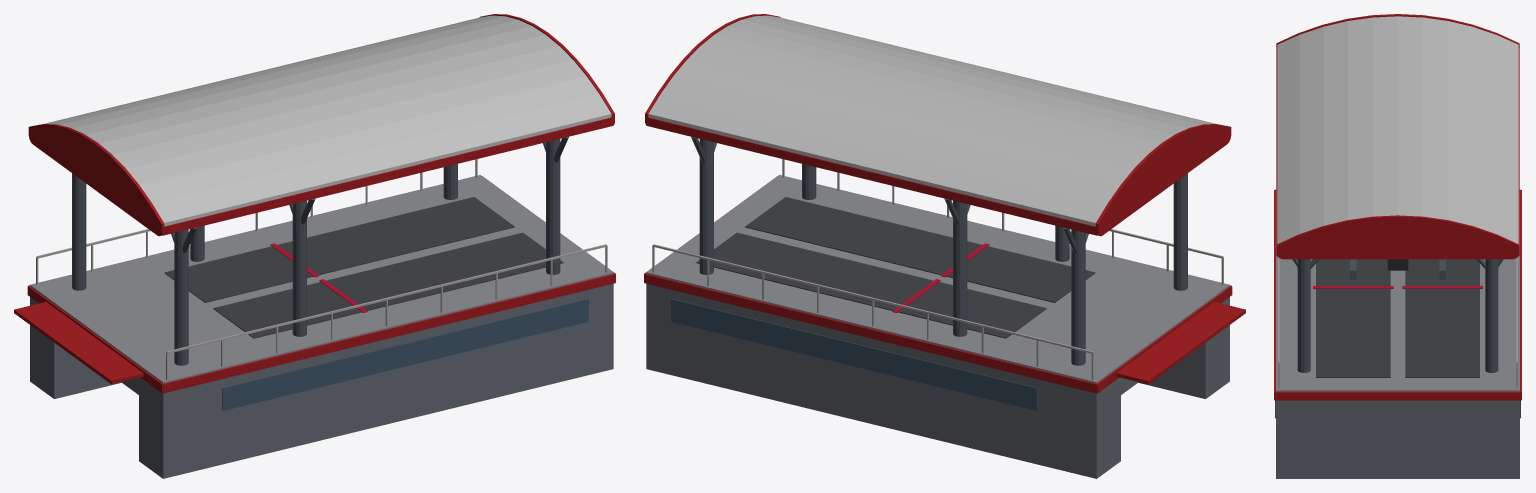
File: gondola_terminal.obj
The picture shows the model from 3 angles, left to right: view 1: azimuth 30°, elevation 25°; view 2: azimuth 150°, elevation 25°; view 3: azimuth 270°, elevation 25°; orthographic projection. The views are drawn at different scales.
Bounding box in the file's own units: 17.26 × 9.74 × 8.32.
